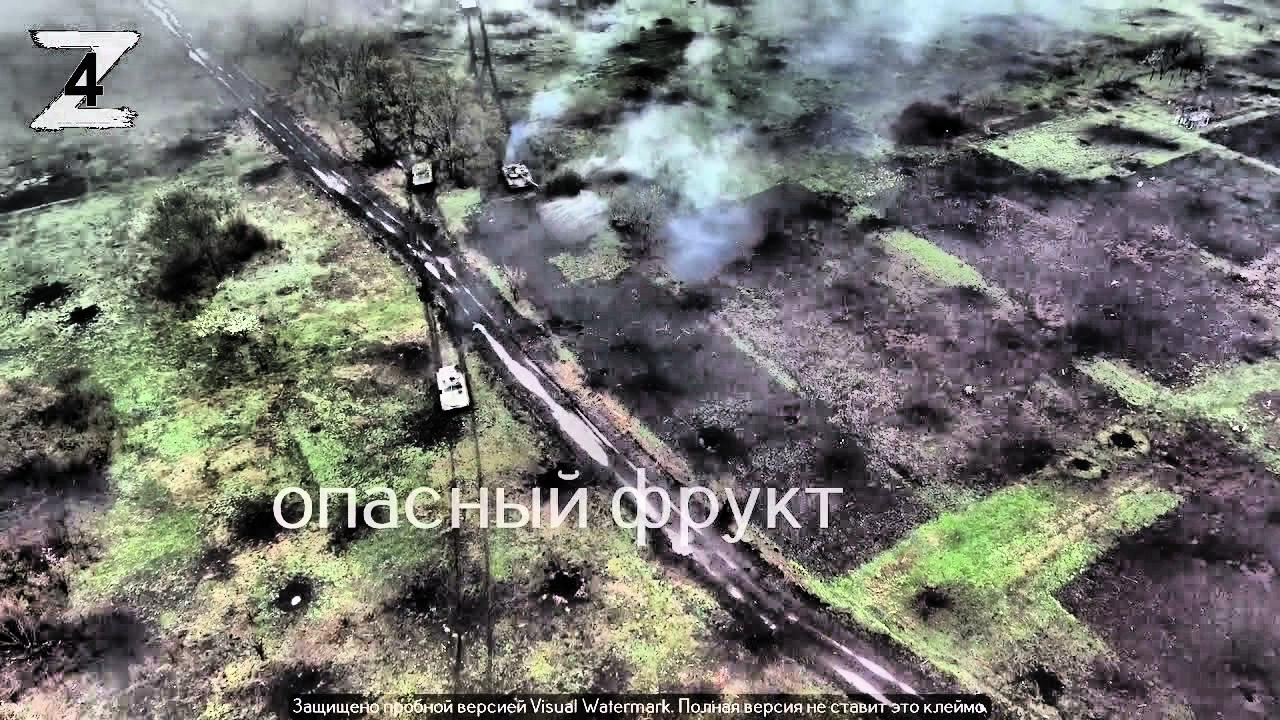military-vehicle: (437, 364, 469, 410), (503, 162, 538, 193), (410, 160, 434, 189)
